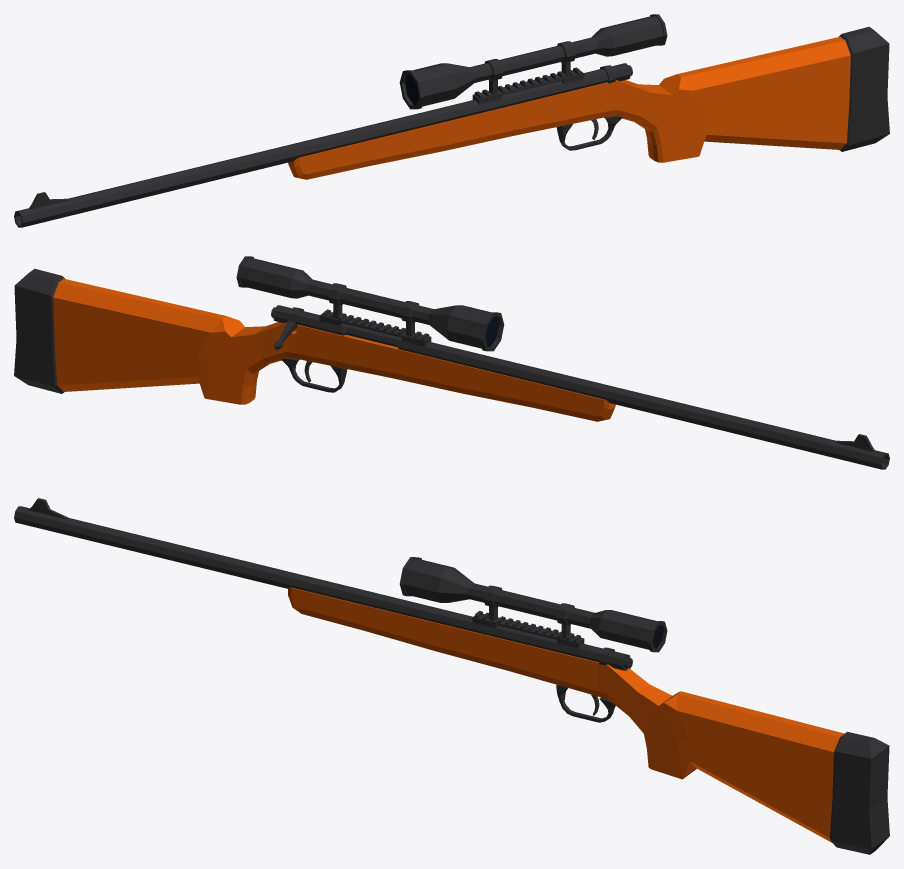
The model's file is SniperRifle_1.fbx.
3 views of the same model, one above another, from view 1: azimuth 30°, elevation 25°; view 2: azimuth 150°, elevation 25°; view 3: azimuth 330°, elevation 25° (orthographic).
Parts seen in each view (by area): view 1: SniperRifle_1.004; view 2: SniperRifle_1.004; view 3: SniperRifle_1.004.
Boxes of the visible parts, x1,y1,x2,y2 form: SniperRifle_1.004: (14, 14, 889, 227); SniperRifle_1.004: (14, 256, 889, 469); SniperRifle_1.004: (14, 498, 889, 854).
Size of the model in its own units: 92.49 by 18.82 by 5.82.
